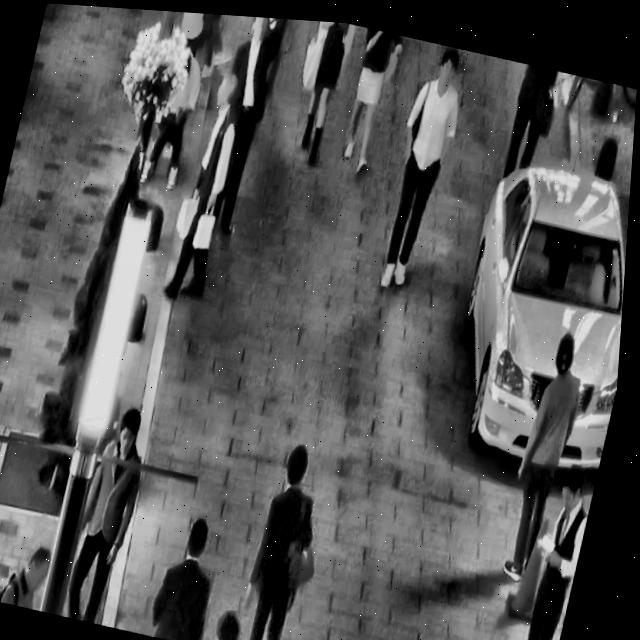light_vehicle: (431, 124, 635, 480)
